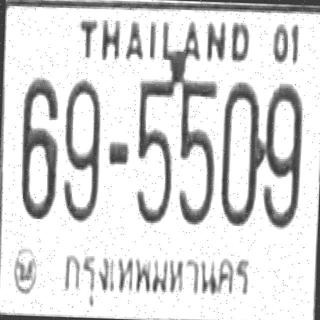N00: (218, 79, 264, 224)
N05: (174, 76, 216, 225), (134, 75, 175, 222)
N06: (18, 74, 59, 218)
N09: (258, 81, 302, 226), (60, 76, 102, 221)
P04: (57, 238, 258, 320)
